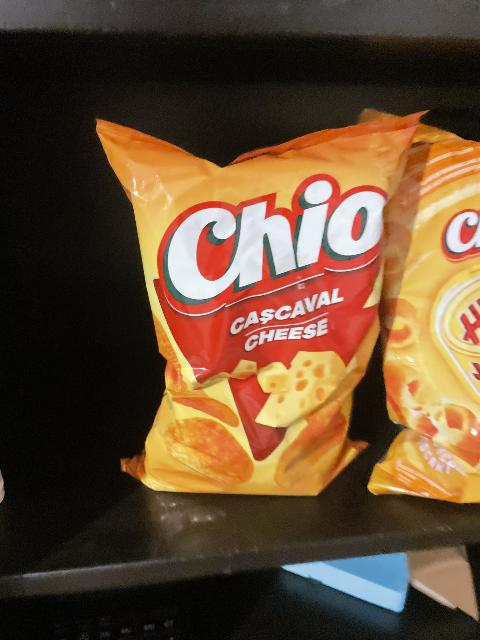Chio Cascaval 125g: (88, 111, 420, 499)
Chio Hula Hoops Cheese 70g: (357, 105, 480, 509)
